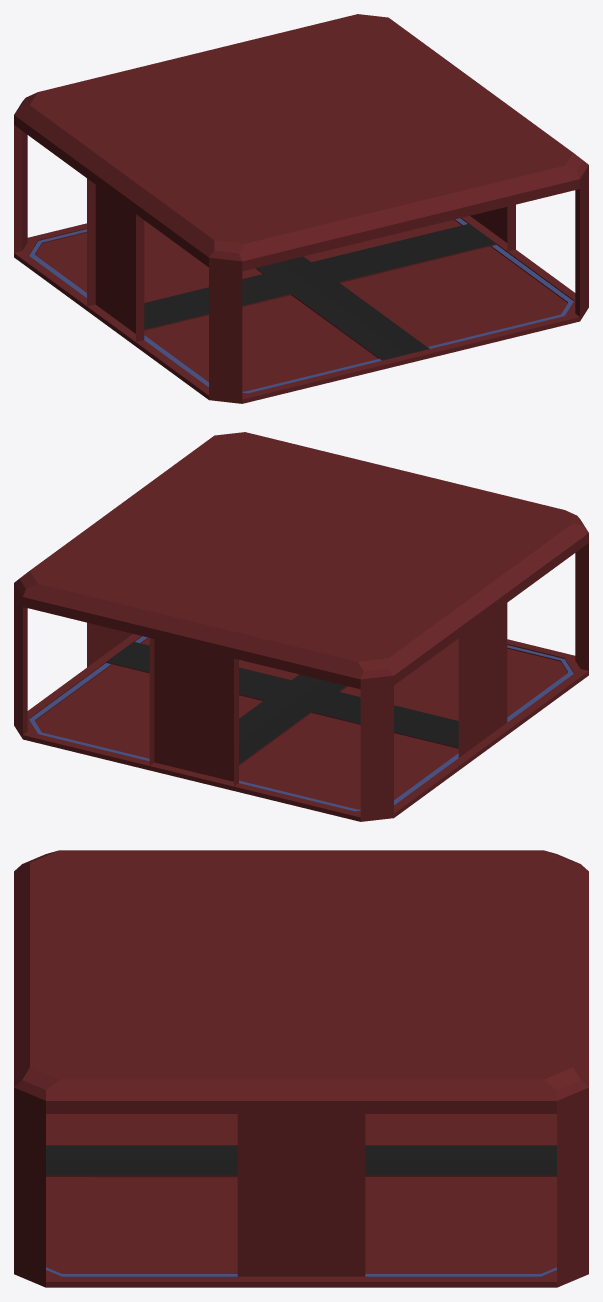
Rendered from Mess_Hall.glb.
3 views of the same model, one above another, from view 1: azimuth 30°, elevation 25°; view 2: azimuth 150°, elevation 25°; view 3: azimuth 270°, elevation 25° (orthographic). The views are drawn at different scales.
Parts seen in each view (by area): view 1: Room_Base_Frame_16x16, Room_Floor_Middle_16x16, Room_Floor_Trim_16x16, Room_Frame_Divider, Room_Ceiling_16x16, Room_Floor_16x16; view 2: Room_Base_Frame_16x16, Room_Floor_Middle_16x16, Room_Frame_Divider, Room_Floor_Trim_16x16, Room_Ceiling_16x16, Room_Floor_16x16; view 3: Room_Base_Frame_16x16, Room_Floor_Middle_16x16, Room_Frame_Divider, Room_Floor_Trim_16x16, Room_Ceiling_16x16, Room_Floor_16x16.
Boxes of the visible parts, bbox=[...] form: Room_Base_Frame_16x16: bbox=[14, 14, 588, 403]; Room_Floor_Middle_16x16: bbox=[14, 216, 579, 403]; Room_Floor_Trim_16x16: bbox=[144, 224, 496, 360]; Room_Frame_Divider: bbox=[87, 178, 515, 341]; Room_Ceiling_16x16: bbox=[14, 120, 588, 271]; Room_Floor_16x16: bbox=[29, 218, 573, 393]; Room_Base_Frame_16x16: bbox=[14, 432, 588, 821]; Room_Floor_Middle_16x16: bbox=[23, 634, 588, 821]; Room_Frame_Divider: bbox=[87, 603, 507, 786]; Room_Floor_Trim_16x16: bbox=[106, 642, 458, 764]; Room_Ceiling_16x16: bbox=[14, 538, 588, 689]; Room_Floor_16x16: bbox=[29, 636, 573, 811]; Room_Base_Frame_16x16: bbox=[14, 850, 588, 1287]; Room_Floor_Middle_16x16: bbox=[46, 1114, 556, 1287]; Room_Frame_Divider: bbox=[237, 1114, 365, 1276]; Room_Floor_Trim_16x16: bbox=[46, 1145, 556, 1175]; Room_Ceiling_16x16: bbox=[14, 1095, 588, 1113]; Room_Floor_16x16: bbox=[46, 1267, 556, 1276].
Bounding box in the file's own units: 18 × 6.95 × 18.
